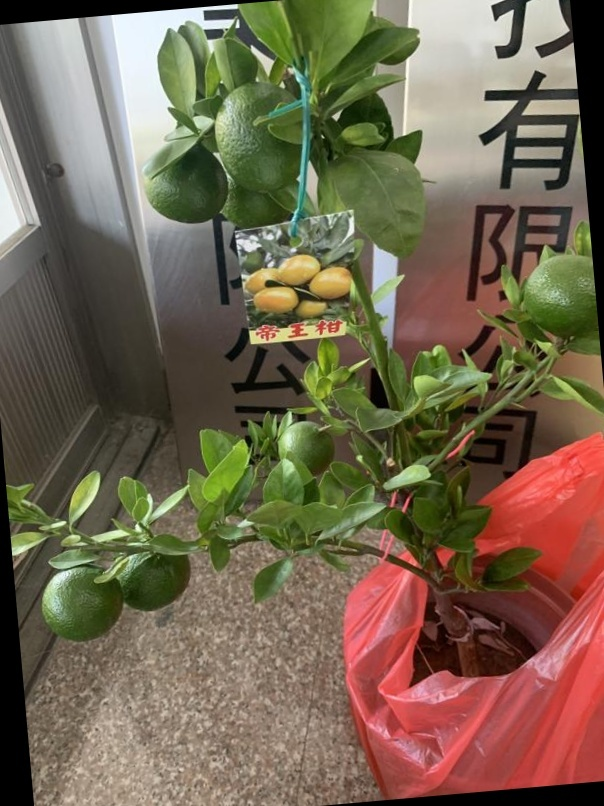Tangerine: (205, 82, 306, 188), (140, 144, 230, 224), (39, 565, 123, 644), (524, 250, 594, 338), (117, 545, 197, 615), (279, 421, 336, 473)
